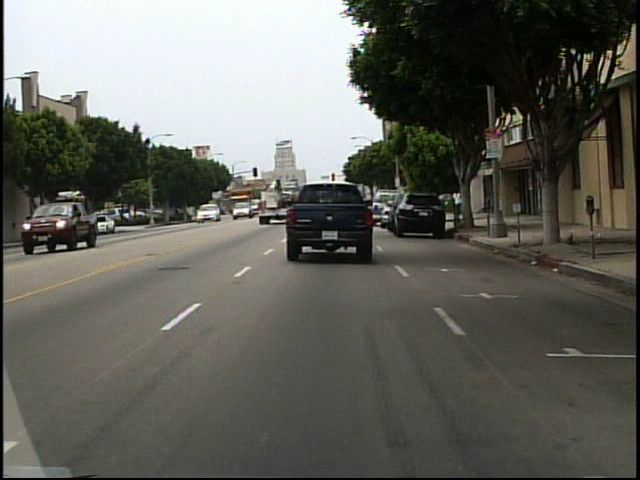person: (452, 187, 463, 221)
